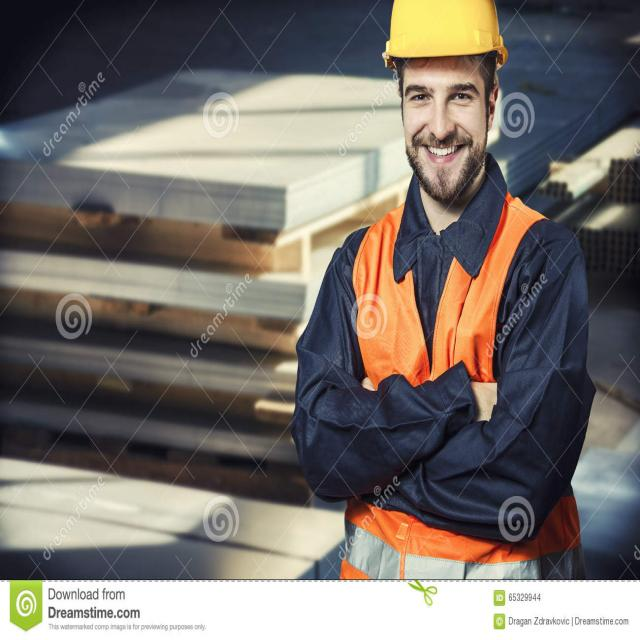Reflective-Jacket: (349, 194, 550, 405)
Safety-Helmet: (382, 1, 508, 64)
